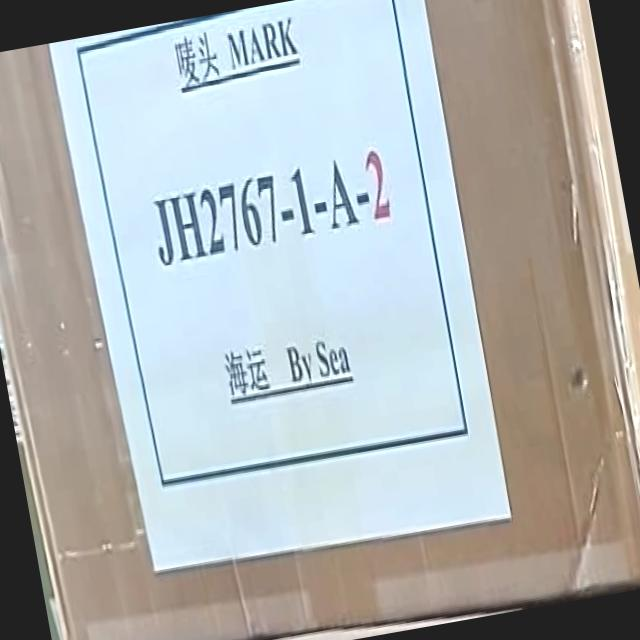carton_box: (0, 0, 640, 640)
export_mark_label: (60, 0, 517, 541)
package_damage: (546, 322, 613, 430)
